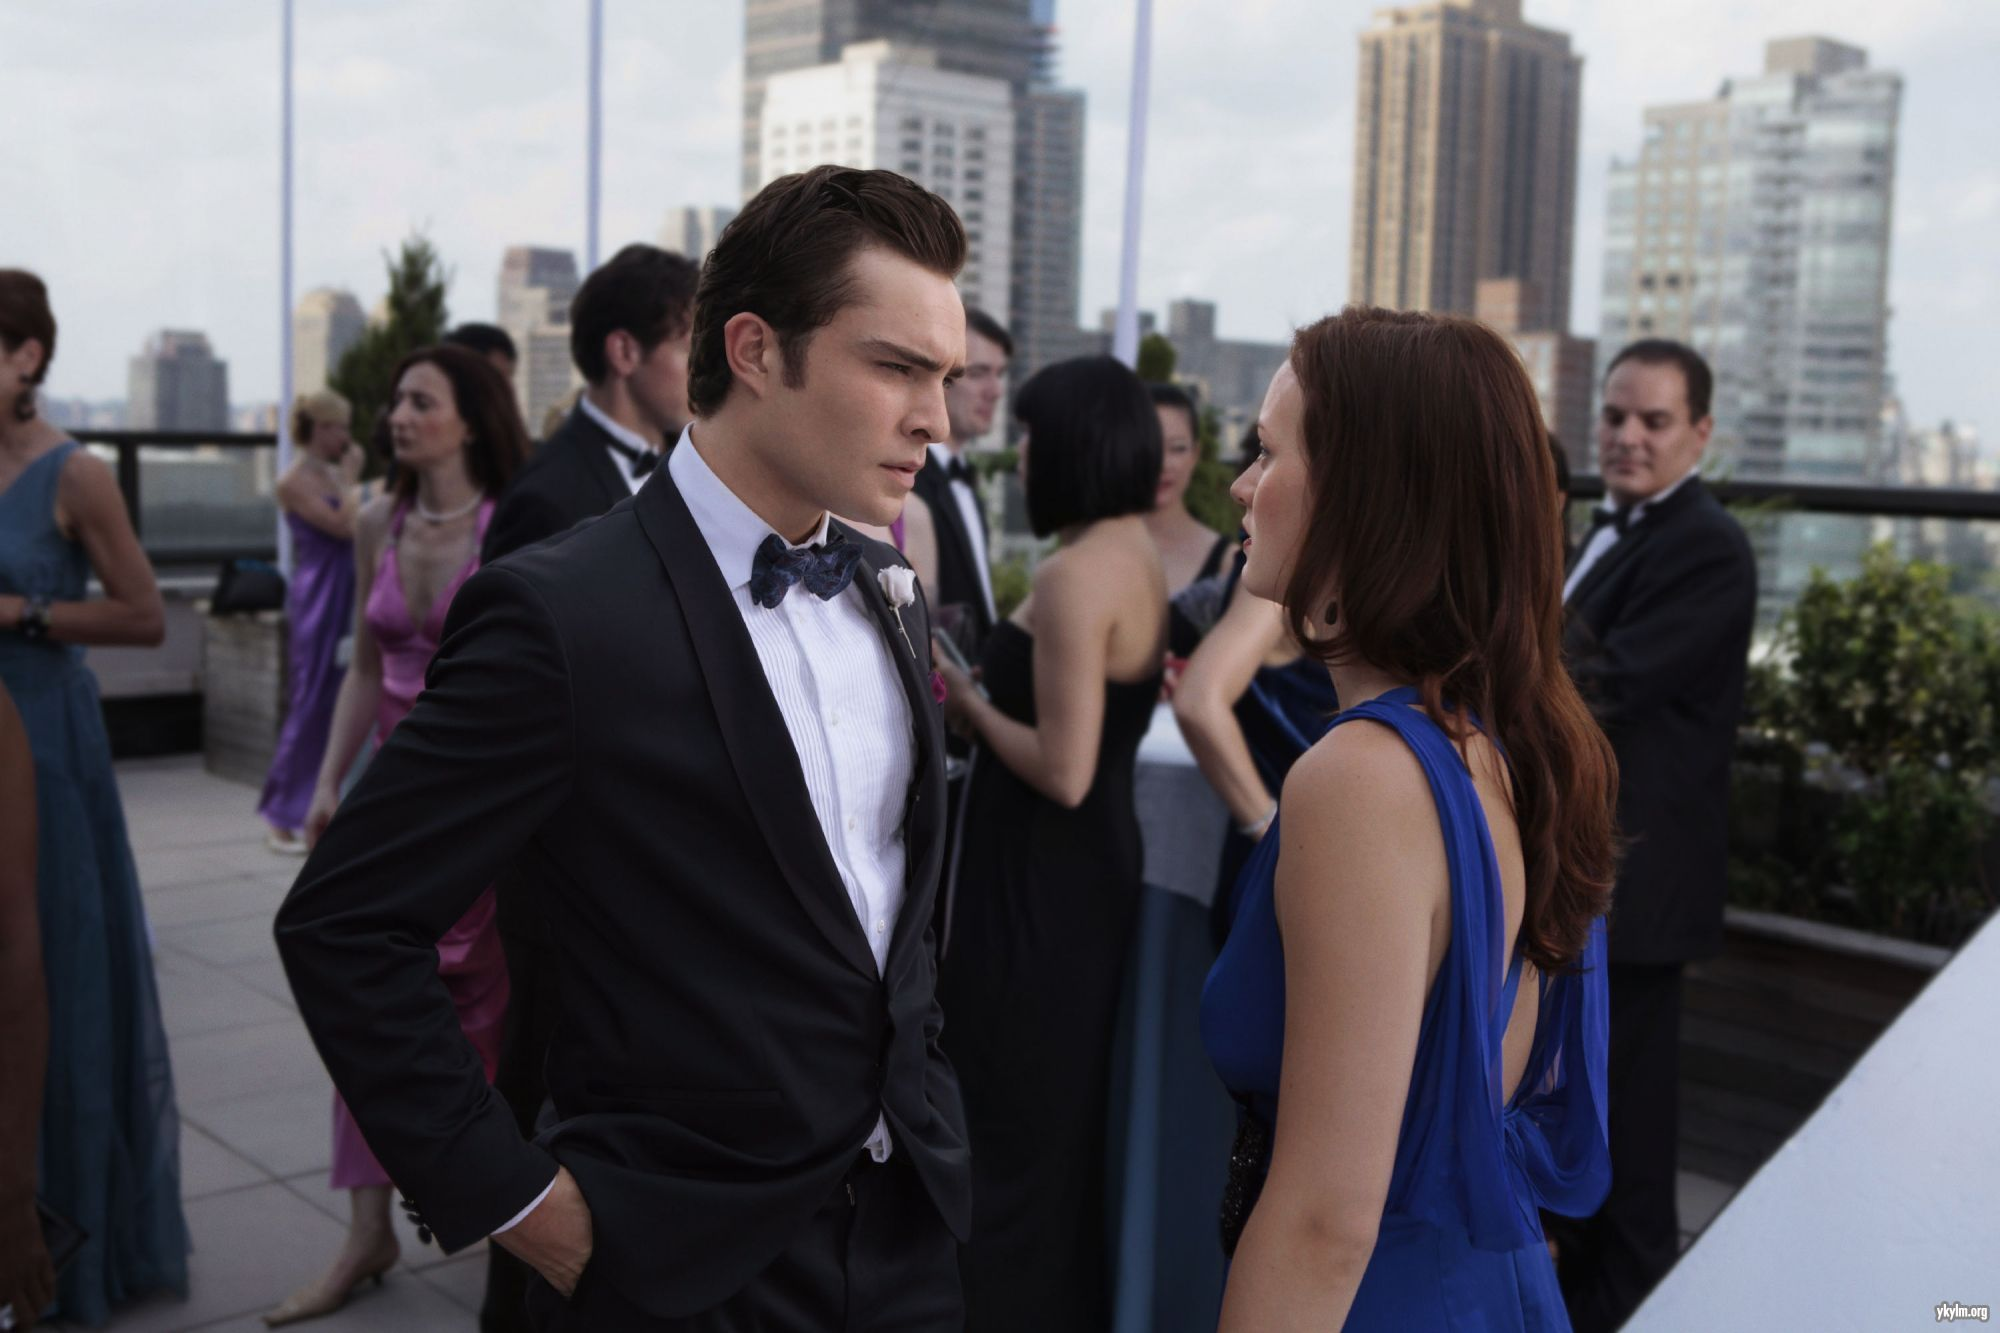person: (1189, 277, 1558, 870), (655, 143, 999, 702), (1578, 322, 1726, 818)
